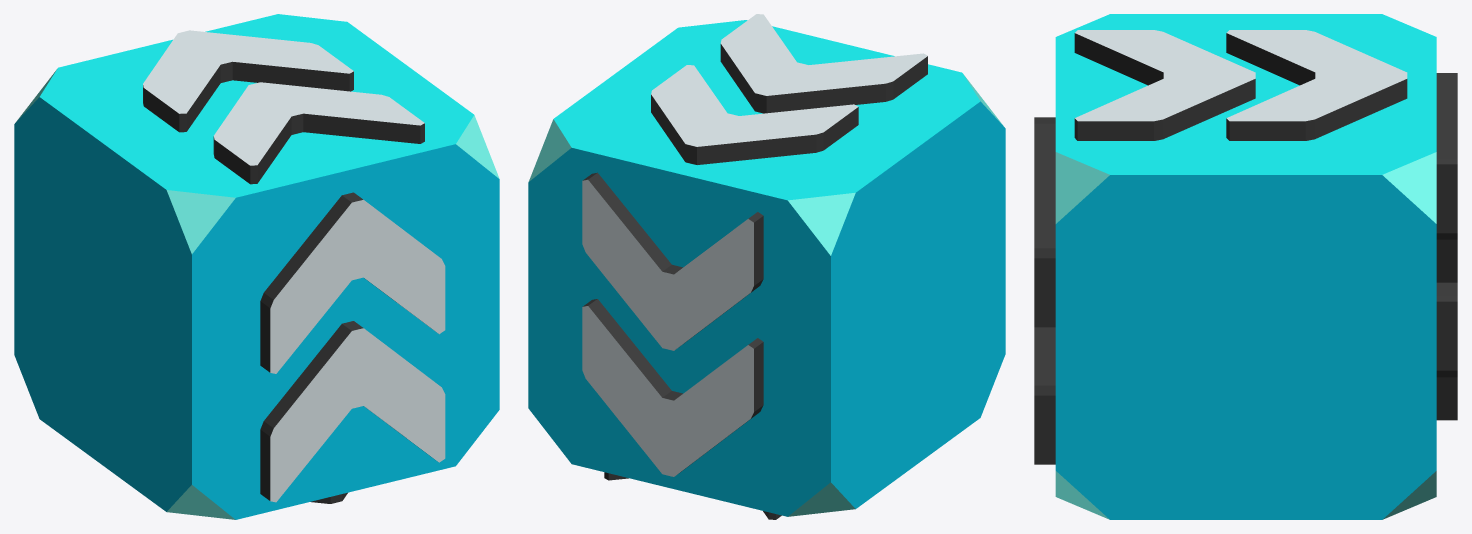
Rendered from DJ-jiasuK.FBX.
3 renders of one model, left to right at view 1: azimuth 30°, elevation 25°; view 2: azimuth 150°, elevation 25°; view 3: azimuth 270°, elevation 25°, orthographic. The views are drawn at different scales.
Visible parts, largest first — view 1: jiasu; view 2: jiasu; view 3: jiasu.
Part boxes in pixels (x1,y1,x2,y2): jiasu: (14, 14, 499, 519); jiasu: (528, 14, 1005, 519); jiasu: (1034, 14, 1457, 519).
Size of the model in its own units: 67.07 by 74.74 by 74.53.
